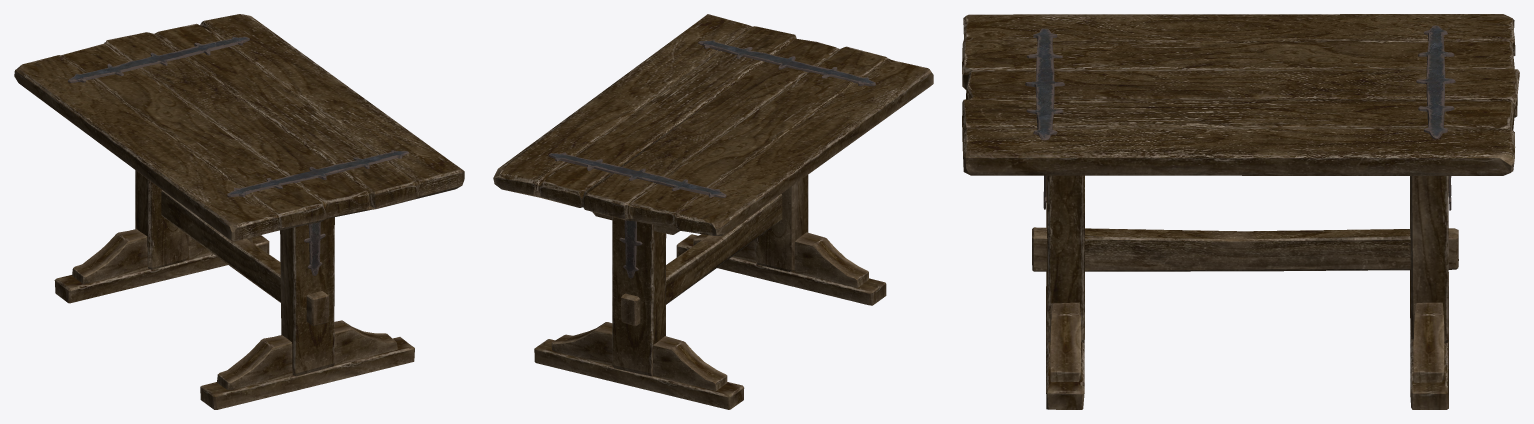
The model's file is wooden_table.glb.
3 renders of one model, left to right at view 1: azimuth 30°, elevation 25°; view 2: azimuth 150°, elevation 25°; view 3: azimuth 270°, elevation 25°, orthographic. The views are drawn at different scales.
Parts seen in each view (by area): view 1: Table_low, Legs_low, Corners_low, Base_low, Rail_low, Metal_low; view 2: Table_low, Legs_low, Corners_low, Base_low, Rail_low, Metal_low; view 3: Table_low, Rail_low, Legs_low, Corners_low, Metal_low, Base_low.
Boxes of the visible parts, x1,y1,x2,y2 form: Table_low: (14, 14, 464, 241); Legs_low: (135, 170, 334, 376); Corners_low: (72, 229, 397, 390); Base_low: (54, 235, 414, 409); Rail_low: (161, 190, 328, 326); Metal_low: (68, 36, 408, 275); Table_low: (493, 14, 933, 236); Legs_low: (612, 175, 808, 376); Corners_low: (551, 212, 868, 390); Base_low: (534, 234, 886, 409); Rail_low: (621, 194, 782, 326); Metal_low: (548, 40, 875, 278); Table_low: (962, 14, 1519, 175); Rail_low: (1032, 227, 1458, 271); Legs_low: (1046, 175, 1448, 342); Corners_low: (1050, 302, 1444, 382); Metal_low: (1025, 25, 1455, 210); Base_low: (1046, 272, 1448, 409).
Bounding box in the file's own units: 1.21 × 1.06 × 2.
Materials: 1 (1 with a texture image).
